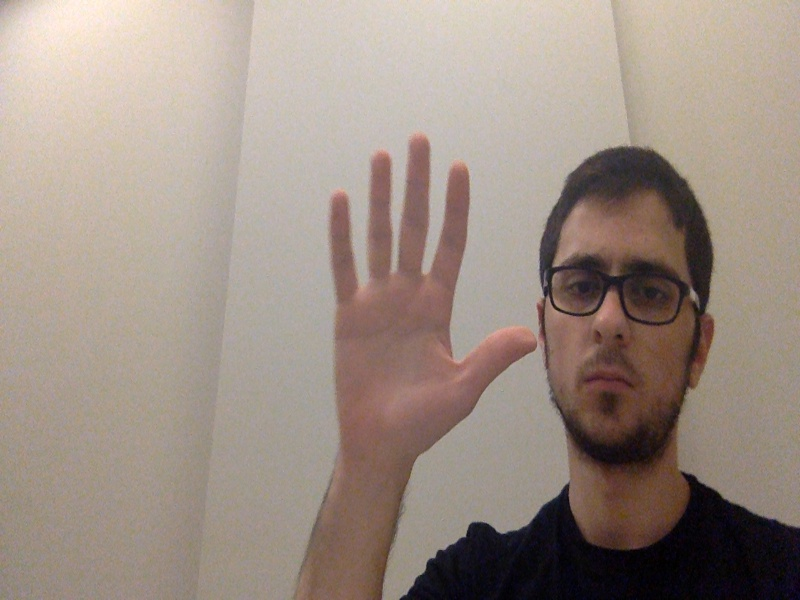5-hand: (329, 134, 535, 453)
